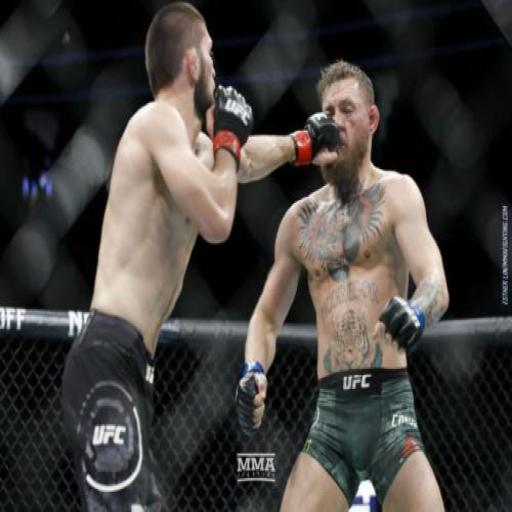boxing: (59, 0, 339, 510), (234, 58, 450, 510)
